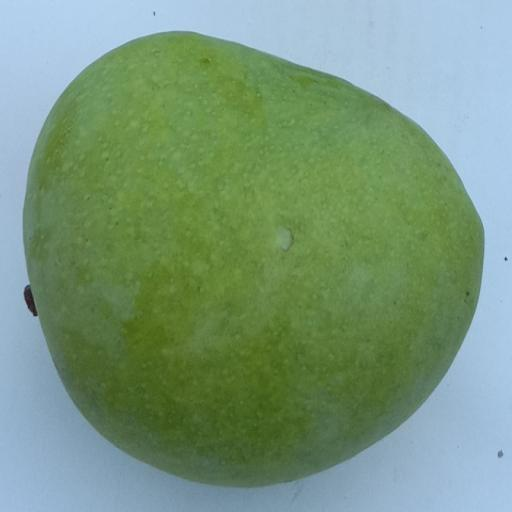mango-unripe: (7, 14, 504, 506)
